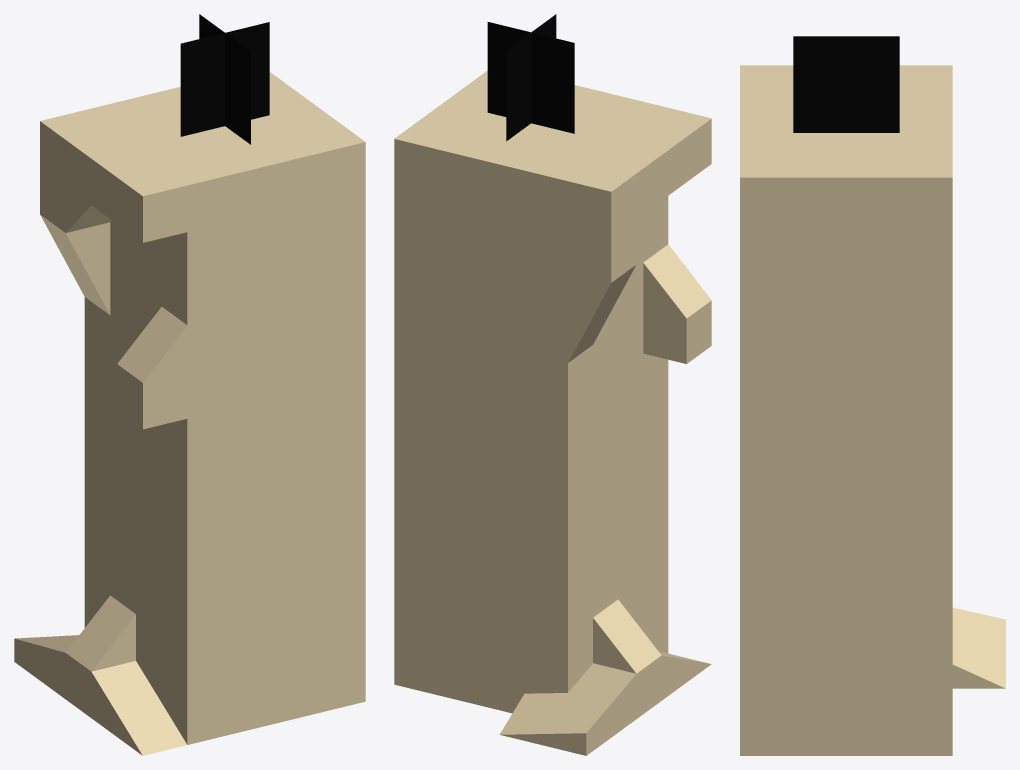
The model's file is candle.fbx.
3 views of the same model, side by side, from view 1: azimuth 30°, elevation 25°; view 2: azimuth 150°, elevation 25°; view 3: azimuth 270°, elevation 25° (orthographic). The views are drawn at different scales.
Parts seen in each view (by area): view 1: cube_6, cube_8, plane, cube_3, cube_7, cube_5, cube_2, cube_1, cube_9, plane_1, cube_4, cube_10 (+1 smaller); view 2: cube_6, cube_4, cube_7, cube_8, plane, cube_2, cube_5, cube_1, cube_9, plane_1, cube_3, cube_10 (+1 smaller); view 3: cube_6, plane_1, cube_4, cube_7, cube_8.
Part boxes in pixels (x1,y1,x2,y2): cube_6: (84,72,365,744); cube_8: (65,129,187,242); plane: (180,22,269,136); cube_3: (91,661,186,755); cube_7: (40,110,109,232); cube_5: (40,214,110,314); cube_2: (117,307,187,382); cube_1: (66,595,135,671); cube_9: (117,364,187,429); plane_1: (199,14,250,144); cube_4: (14,635,79,698); cube_10: (65,653,91,717); cube_6: (394,70,668,713); cube_4: (499,663,636,755); cube_7: (568,163,636,282); cube_8: (593,108,711,218); plane: (487,22,574,133); cube_2: (643,244,711,318); cube_5: (568,265,635,362); cube_1: (593,599,661,673); cube_9: (643,300,711,363); plane_1: (506,14,556,141); cube_3: (659,652,711,700); cube_10: (636,655,661,718); cube_6: (740,88,952,755); plane_1: (793,36,899,132); cube_4: (952,607,1005,688); cube_7: (899,65,952,87); cube_8: (740,65,793,87).
Bounding box in the file's own units: 7.81 × 21.88 × 7.81.
2 materials, 2 textured.
